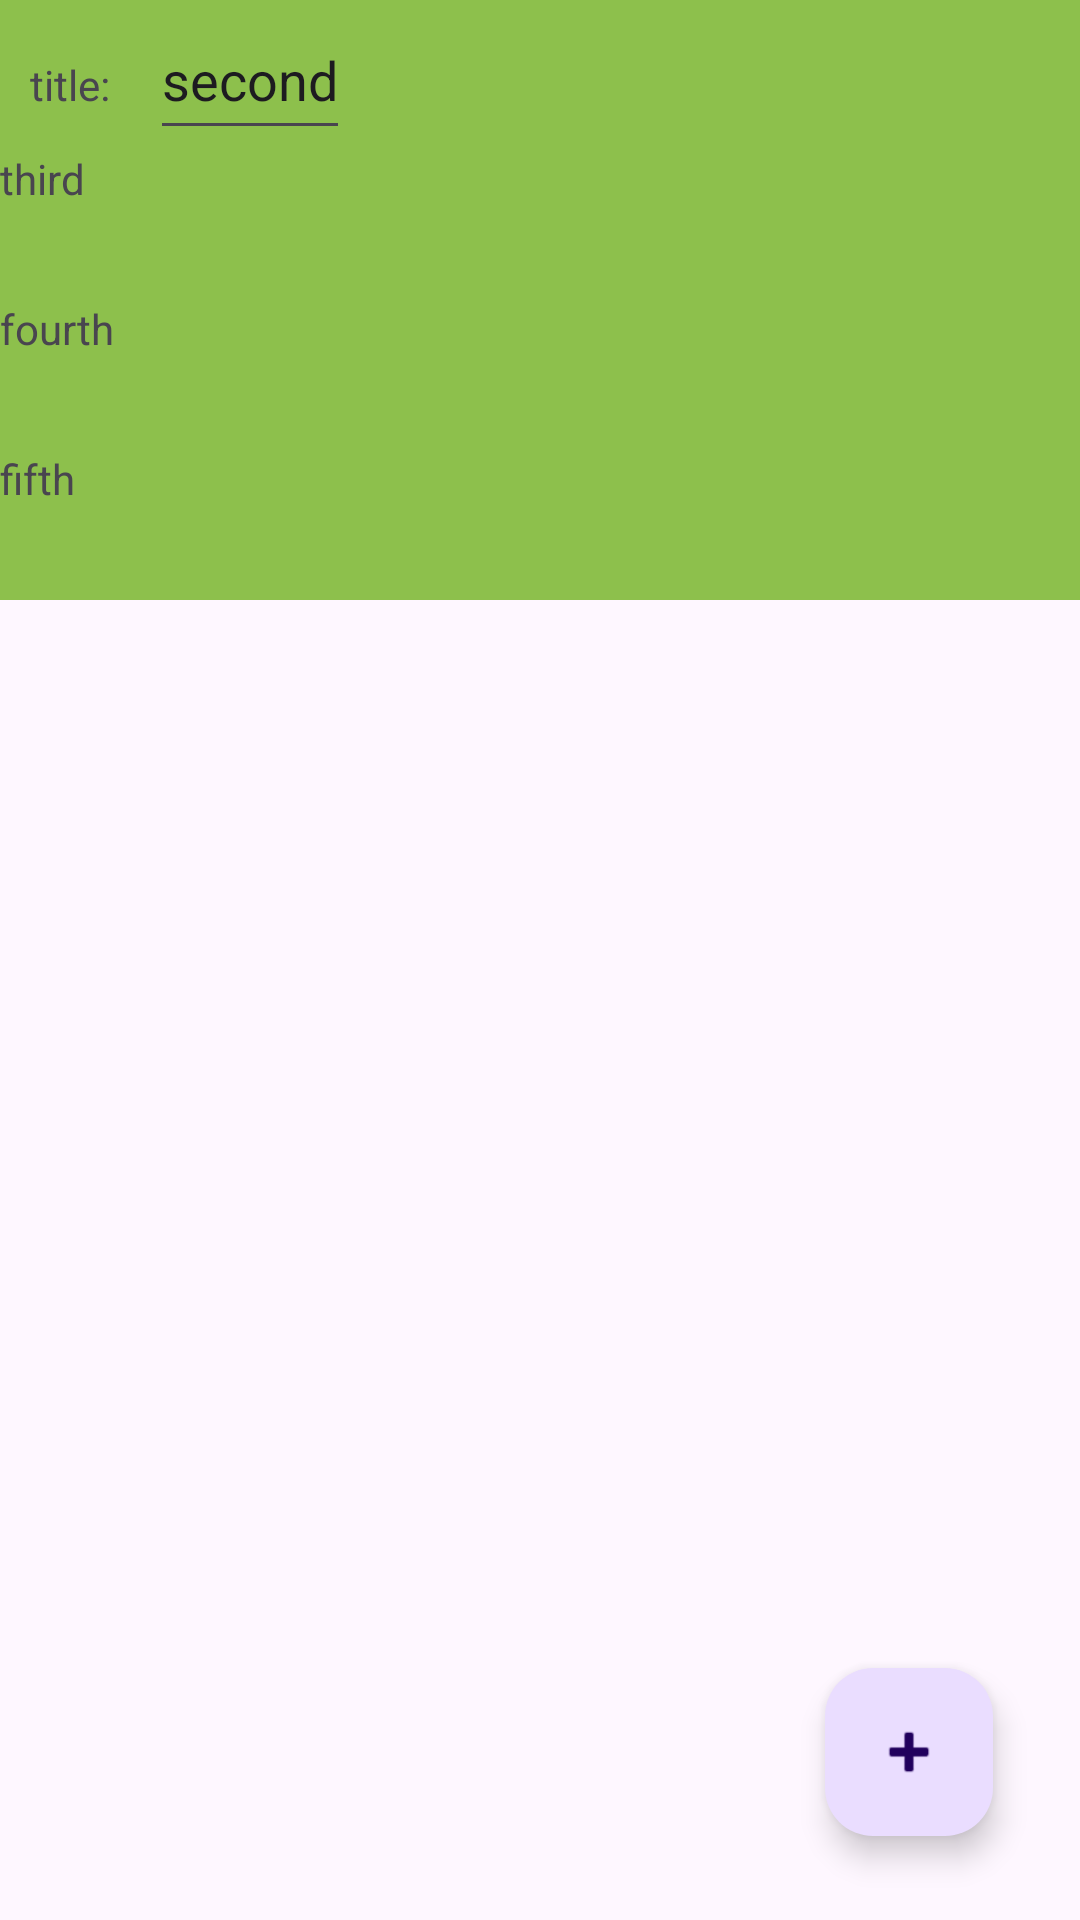

Icon bounding boxes for this 1080x1920 phone screenshot, format [x1,y1,x2,y2]:
add: [825,1668,993,1836]
